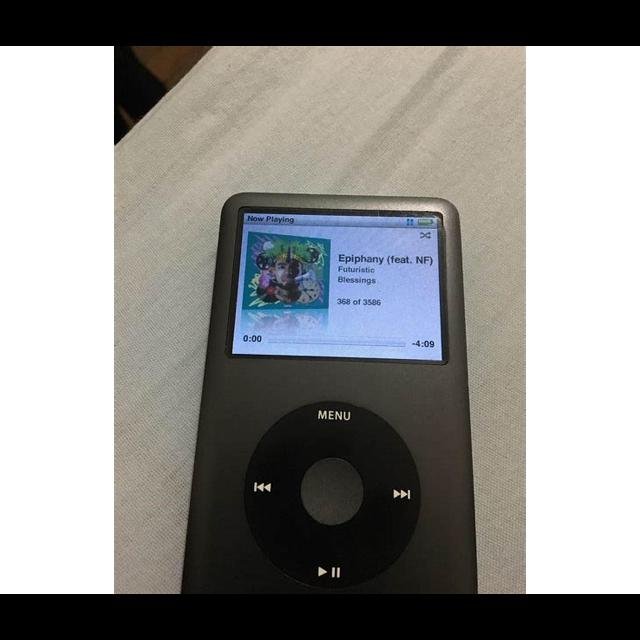Music-Player: (179, 188, 487, 594)
